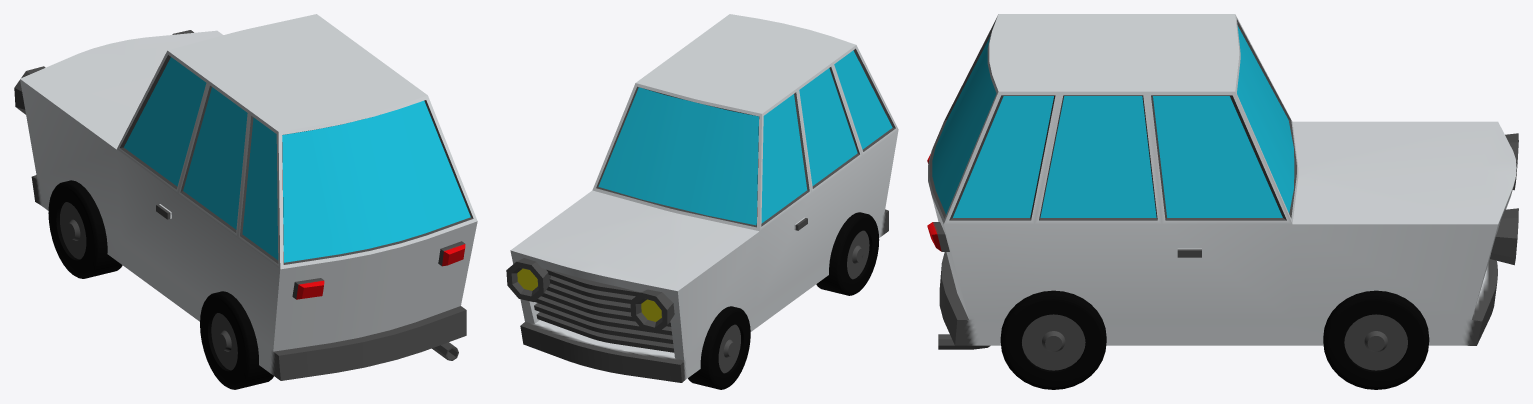
Rendered from white_car.fbx.
The picture shows the model from 3 angles, left to right: view 1: azimuth 30°, elevation 25°; view 2: azimuth 150°, elevation 25°; view 3: azimuth 270°, elevation 25°; orthographic projection. The views are drawn at different scales.
Parts seen in each view (by area): view 1: car.001, Cylinder.001, Cylinder.003, Cube.013, Circle.001; view 2: car.001, Cube.012, Cylinder.001, Cylinder.003, Circle.001; view 3: car.001, Cylinder.004, Cylinder.005, Circle.001.
Boxes of the visible parts, x1,y1,x2,y2 form: car.001: (20,14,477,380); Cylinder.001: (48,180,122,278); Cylinder.003: (200,291,273,389); Cube.013: (292,241,465,299); Circle.001: (14,30,193,114); car.001: (510,14,898,382); Cube.012: (534,269,674,352); Cylinder.001: (688,306,750,389); Cylinder.003: (816,212,879,295); Circle.001: (506,258,674,333); car.001: (928,14,1516,345); Cylinder.004: (1000,290,1106,389); Cylinder.005: (1323,290,1429,389); Circle.001: (1490,133,1518,265).
Size of the model in its own units: 72.78 by 88.5 by 167.
Materials: 1 (1 with a texture image).
